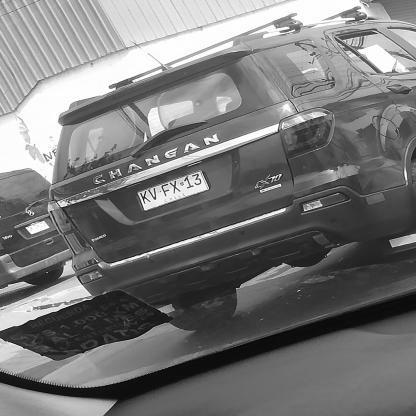Patente: (133, 166, 213, 215)
